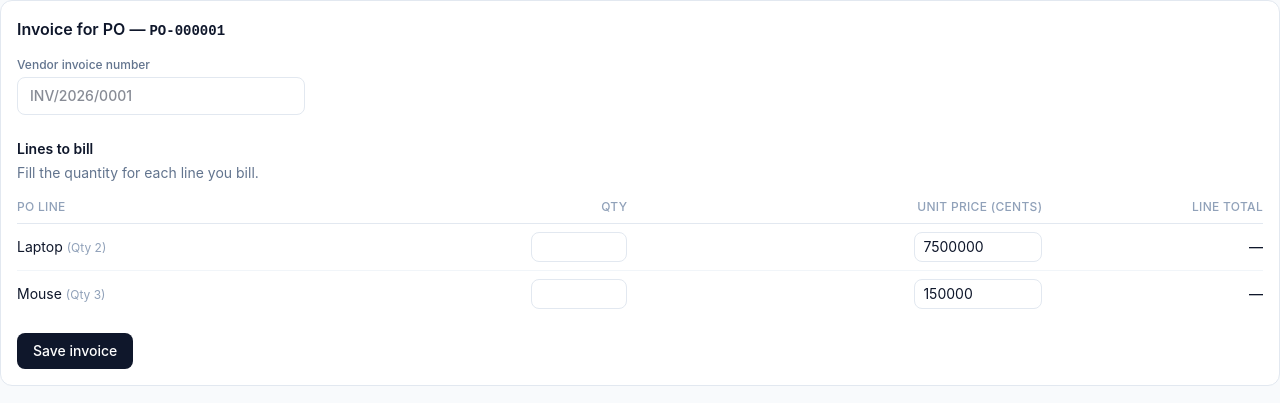
InvoiceForm › accepts a zero price (a free line) and computes the live line total
Step 1. Replace the text in the number field with test id "invoice-price-po-item-2" with "0" → (978, 294), box [914, 279, 1042, 309]
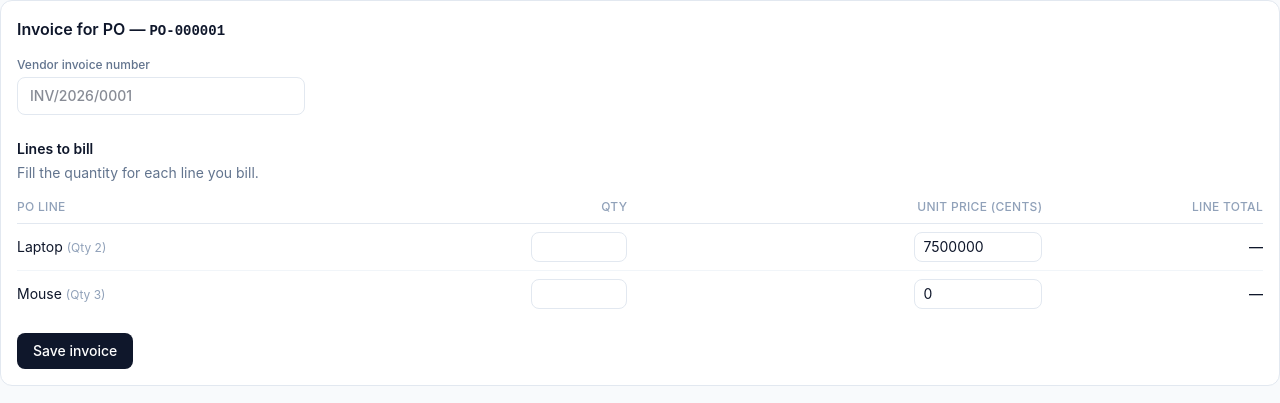
Step 2. Type "3" into the number field with test id "invoice-qty-po-item-2" → (579, 294), box [531, 279, 627, 309]
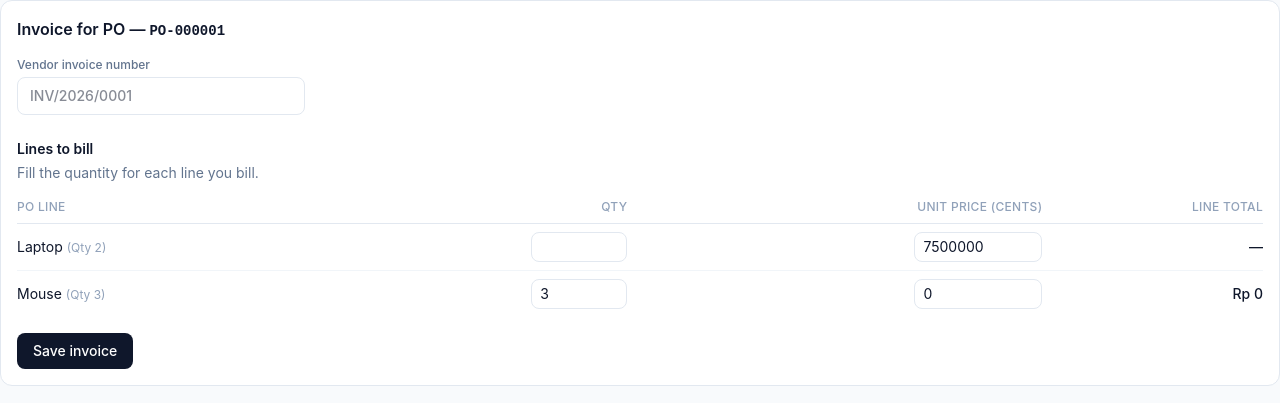
Expected: the cell with test id "invoice-line-total-po-item-2" reads "Rp 0", [1232, 285, 1263, 302]
